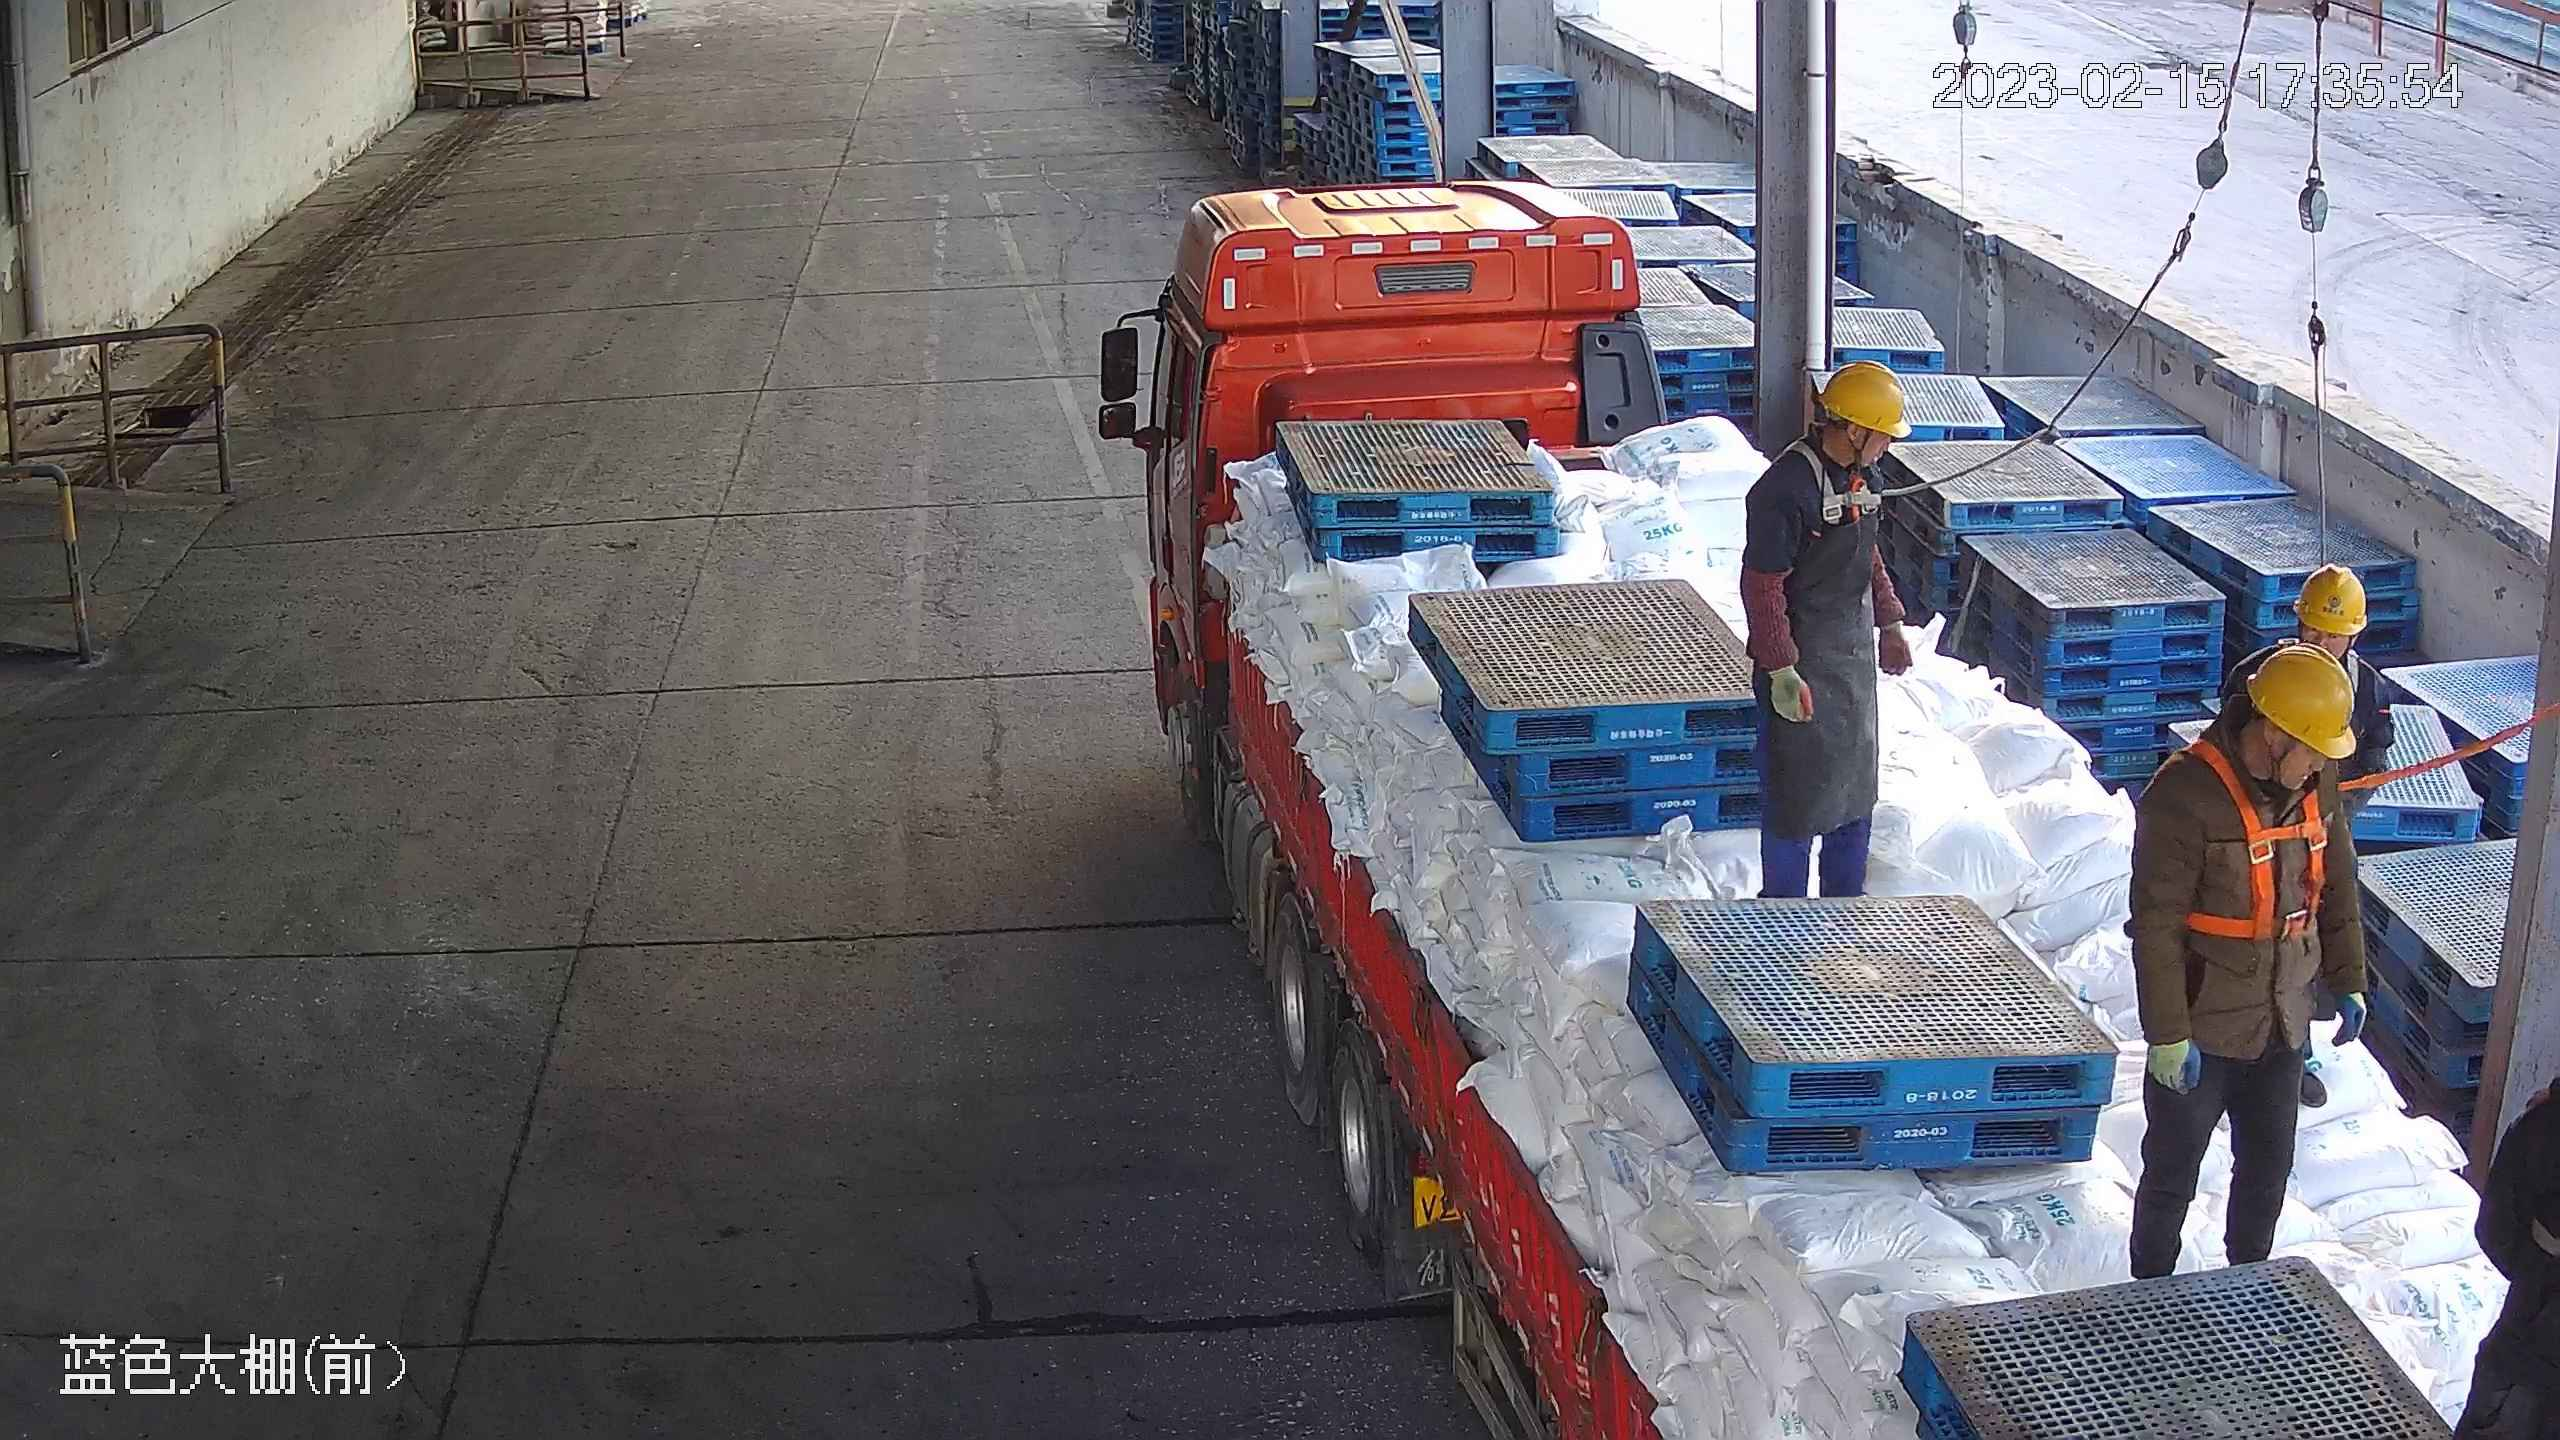belt: (2175, 740, 2327, 935), (1784, 442, 1891, 524)
head: (2145, 638, 2360, 861), (1743, 360, 1918, 541)
helmet: (2246, 640, 2359, 760), (1818, 360, 1912, 438), (2293, 565, 2369, 633)
people: (2122, 639, 2371, 1280), (1740, 359, 1915, 901)
truck: (1090, 166, 2560, 1440)
